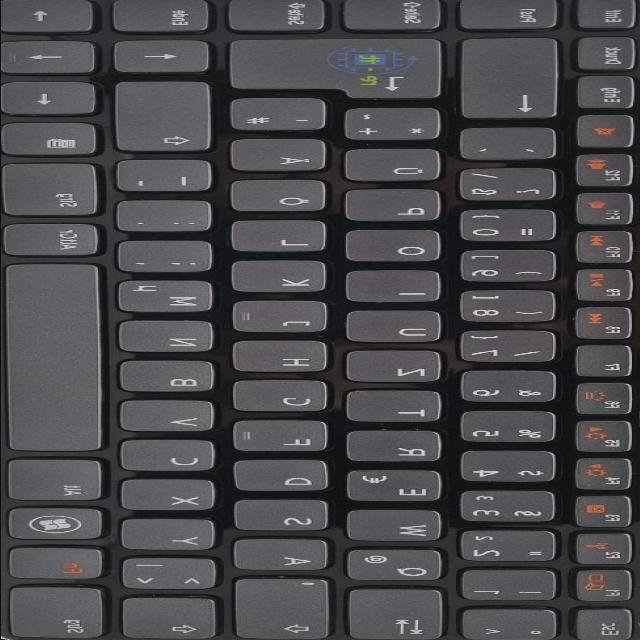0: (461, 210, 563, 245)
1: (461, 570, 563, 603)
2: (461, 530, 563, 564)
3: (459, 490, 561, 525)
4: (460, 451, 560, 485)
5: (461, 411, 562, 446)
6: (461, 370, 562, 405)
7: (459, 331, 561, 365)
8: (459, 291, 561, 325)
9: (461, 250, 563, 285)
a: (235, 539, 335, 573)
accent: (461, 128, 563, 162)
ae: (233, 140, 335, 174)
alt-left: (7, 460, 111, 504)
altgr-right: (7, 224, 107, 258)
b: (122, 361, 220, 395)
c: (122, 440, 222, 474)
caret: (463, 610, 566, 640)
comma: (121, 241, 218, 275)
d: (235, 460, 333, 493)
del: (462, 38, 567, 121)
e: (348, 471, 449, 504)
enter: (226, 39, 453, 101)
f: (235, 421, 335, 454)
g: (235, 381, 335, 415)
h: (235, 341, 335, 375)
hash: (232, 99, 333, 133)
i: (348, 271, 448, 305)
j: (234, 302, 334, 335)
k: (233, 261, 335, 295)
keyboard: (2, 0, 638, 639)
l: (234, 221, 334, 255)
less: (122, 558, 226, 592)
m: (120, 282, 221, 315)
minus: (120, 161, 218, 195)
n: (121, 322, 219, 355)
o: (346, 231, 447, 265)
oe: (232, 180, 333, 214)
p: (347, 190, 449, 224)
plus: (345, 109, 449, 143)
point: (120, 201, 218, 235)
q: (346, 549, 450, 584)
r: (346, 431, 446, 465)
s: (235, 500, 335, 533)
shift-left: (122, 598, 226, 640)
shift-lock: (236, 578, 340, 640)
shift-right: (117, 82, 219, 153)
space: (7, 264, 111, 454)
ss: (459, 169, 563, 205)
strg-left: (11, 587, 113, 640)
strg-right: (5, 164, 106, 219)
t: (348, 391, 448, 424)
tab: (349, 590, 453, 640)
u: (347, 311, 449, 345)
ue: (345, 149, 449, 184)
v: (122, 401, 222, 434)
w: (348, 511, 450, 544)
x: (123, 480, 223, 513)
y: (122, 519, 222, 552)
z: (347, 351, 449, 385)
